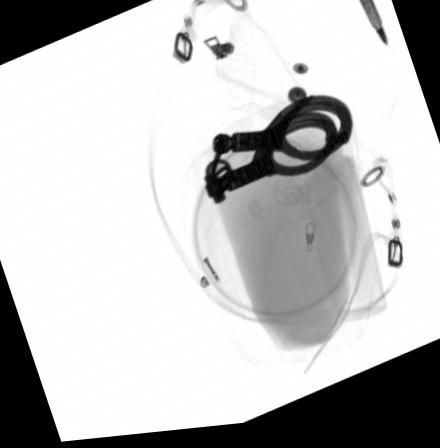Bullet: (355, 0, 391, 53)
HandCuffs: (198, 100, 358, 205)
